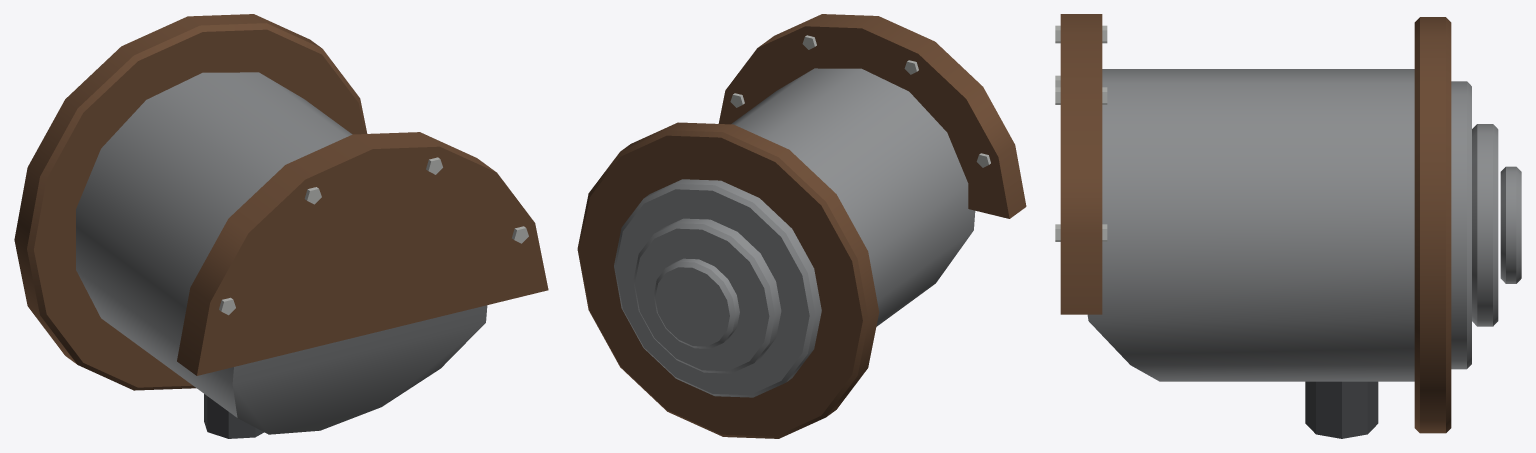
The model's file is pipe-ending-down.glb.
3 renders of one model, left to right at view 1: azimuth 30°, elevation 25°; view 2: azimuth 150°, elevation 25°; view 3: azimuth 270°, elevation 25°, orthographic. The views are drawn at different scales.
Parts seen in each view (by area): view 1: body; view 2: body; view 3: body.
Part boxes in pixels (<box>): body: <box>14,14,548,438</box>; body: <box>577,14,1026,438</box>; body: <box>1055,14,1521,438</box>.
Bounding box in the file's own units: 0.812 × 0.826 × 0.895.
